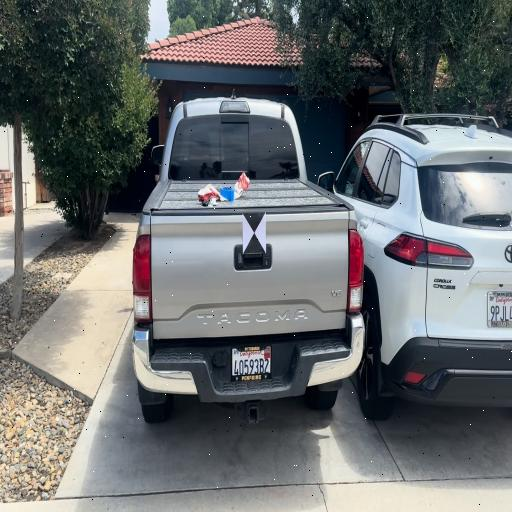target: (243, 213, 266, 252)
